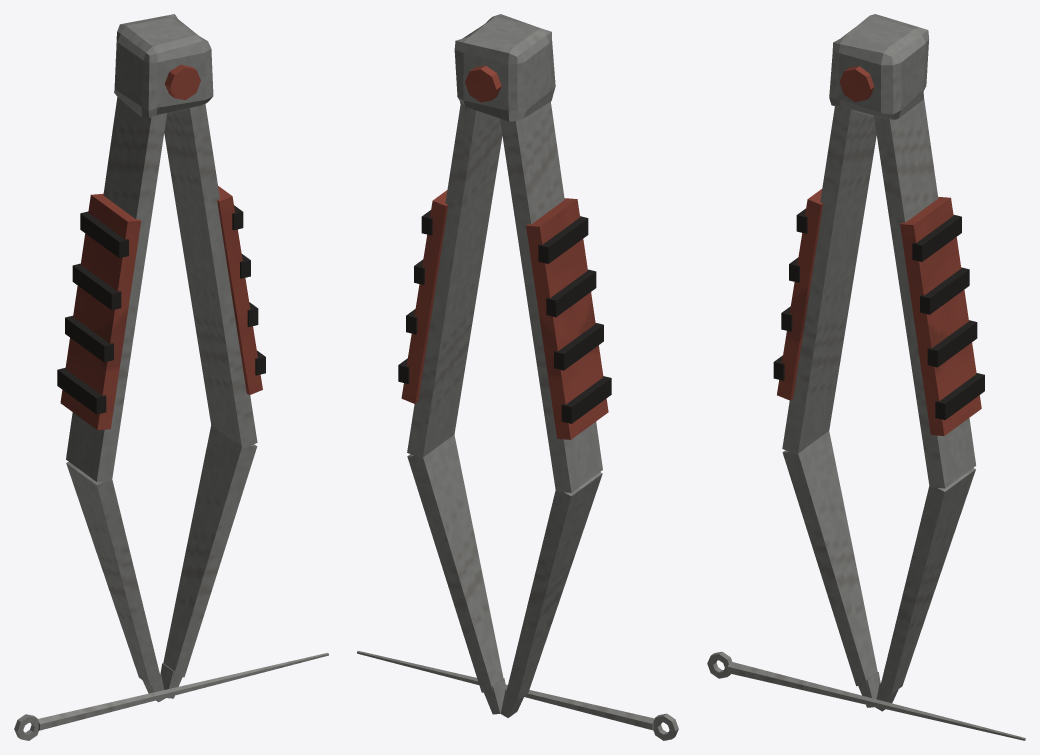
The model's file is needle_tweezers.glb.
3 renders of one model, left to right at view 1: azimuth 30°, elevation 25°; view 2: azimuth 150°, elevation 25°; view 3: azimuth 330°, elevation 25°, orthographic. The views are drawn at different scales.
Visible parts, largest first — view 1: NeedleTweezers; view 2: NeedleTweezers; view 3: NeedleTweezers.
Boxes of the visible parts, left/top/right/bottom form: NeedleTweezers: left=14, top=14, right=328, bottom=740; NeedleTweezers: left=357, top=14, right=678, bottom=740; NeedleTweezers: left=707, top=14, right=1025, bottom=740.
Bounding box in the file's own units: 0.322 × 0.6576 × 0.085.
Materials: 3 (2 with a texture image).
